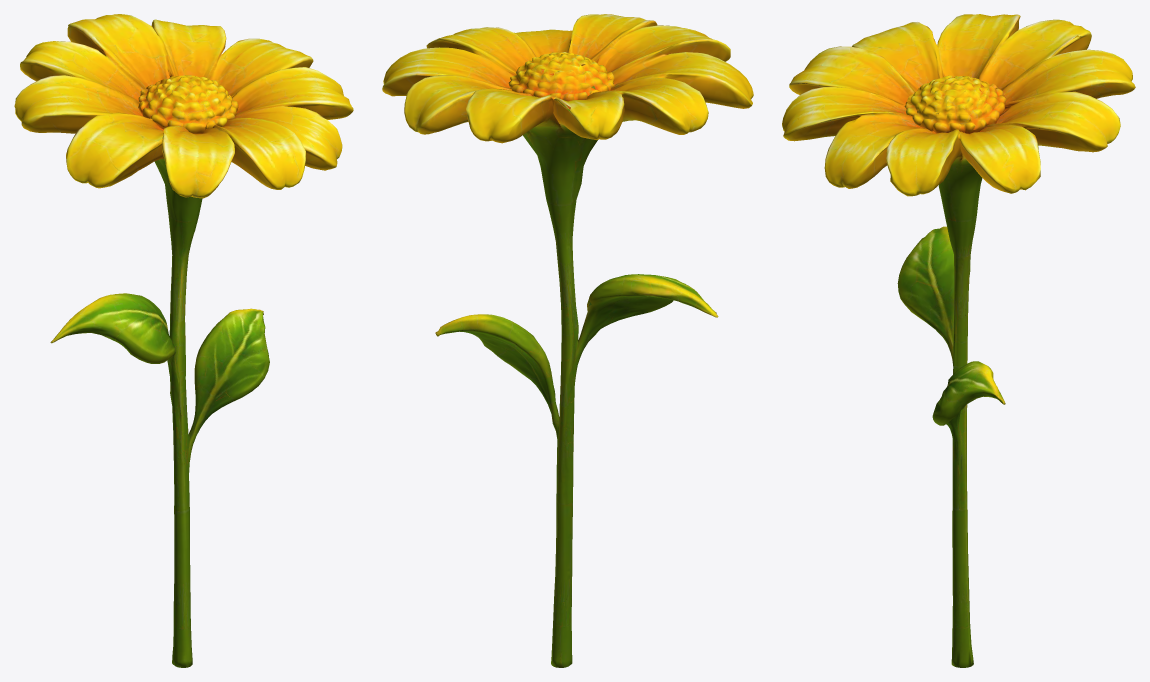
The model's file is daisy_yellow.glb.
3 renders of one model, left to right at view 1: azimuth 30°, elevation 25°; view 2: azimuth 150°, elevation 25°; view 3: azimuth 270°, elevation 25°, orthographic. The views are drawn at different scales.
Visible parts, largest first — view 1: geometry_0; view 2: geometry_0; view 3: geometry_0.
Part boxes in pixels (left/top/right/bottom): geometry_0: left=14, top=14, right=353, bottom=667; geometry_0: left=382, top=14, right=753, bottom=667; geometry_0: left=782, top=14, right=1135, bottom=667.
Size of the model in its own units: 0.4985 by 0.9517 by 0.5107.
1 material, 1 textured.
